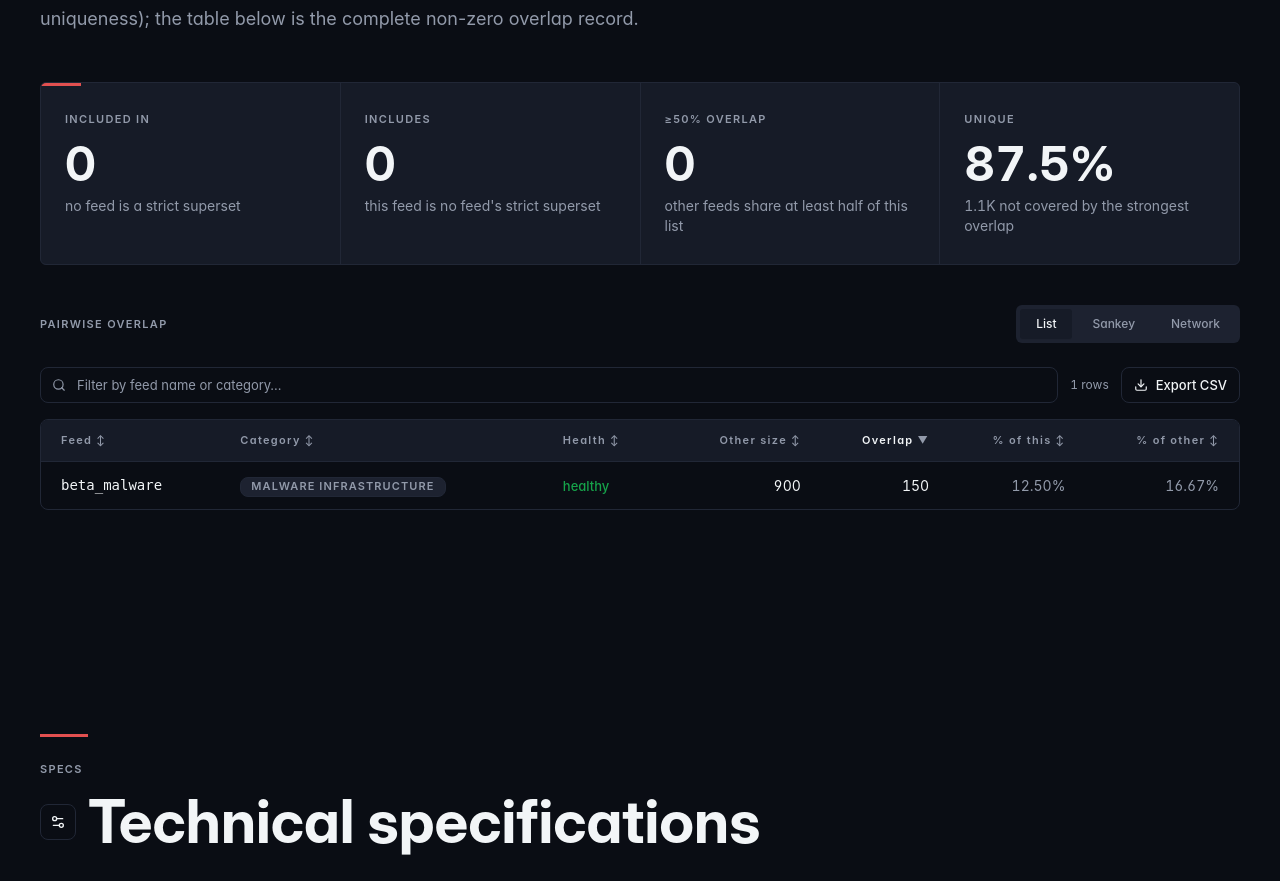
Test: loads a feed detail page through the published API surfaces
(page scrolled)
Hover over the link "beta_malware" at (112, 486), box 61,478 -> 162,494
(page scrolled)
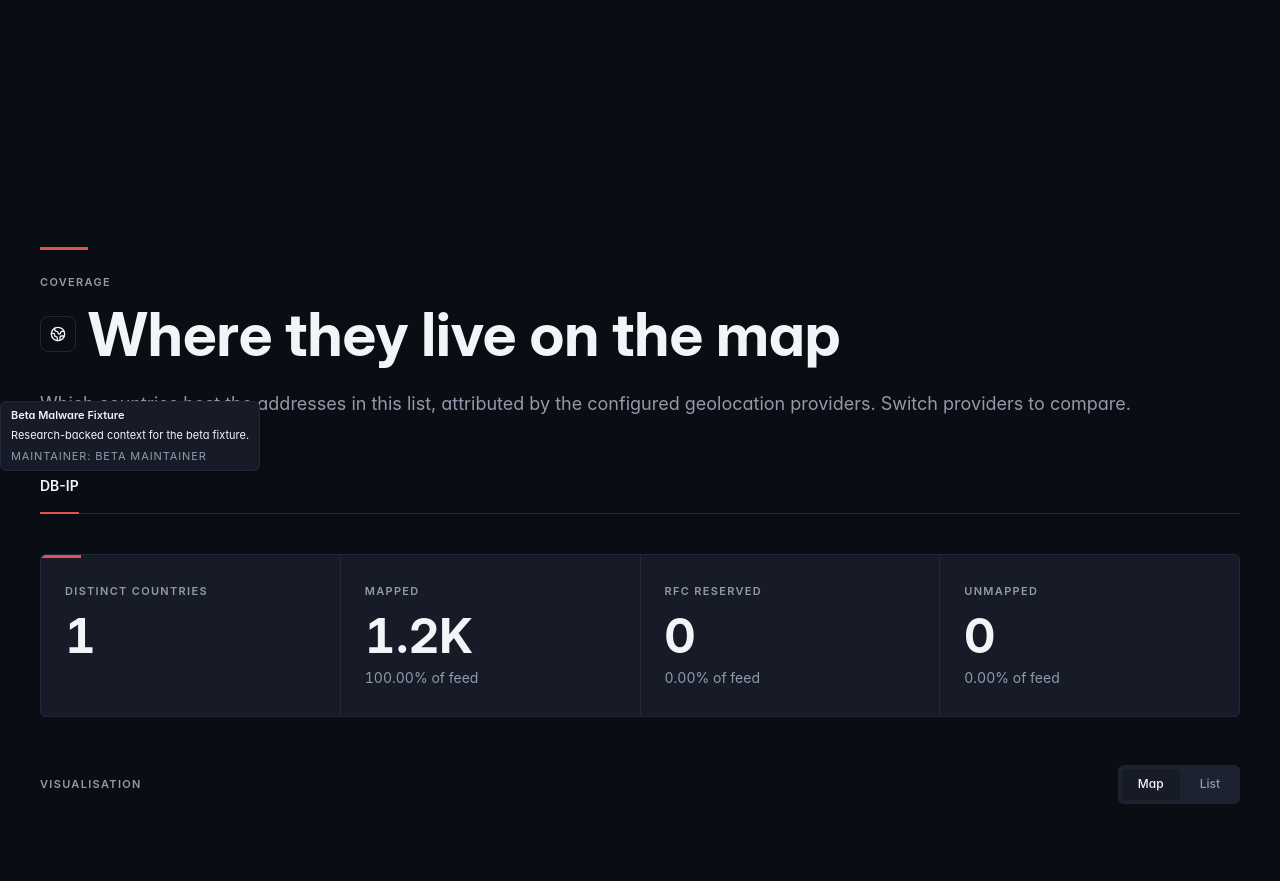
Check: the heading "Where they live on the map" is shown, box 88,303 -> 841,366
Check: the text "Beta Malware Fixture" is shown, box 11,408 -> 124,422
